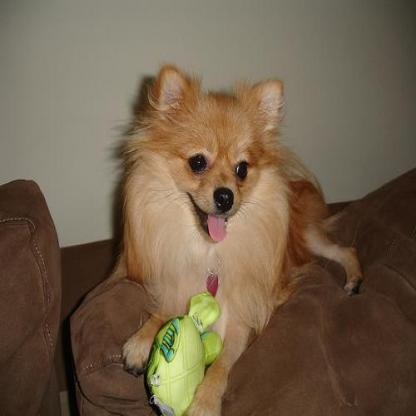Pomeranian: (106, 64, 362, 414)
